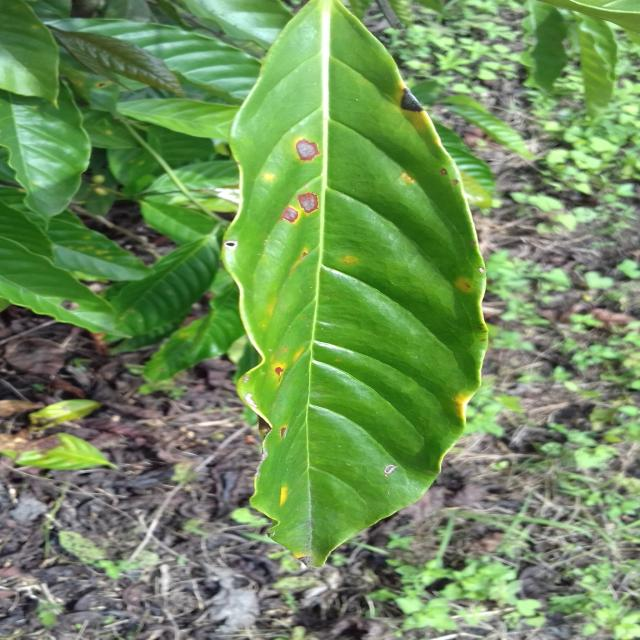Enfermedad-Roya: (199, 0, 487, 565)
